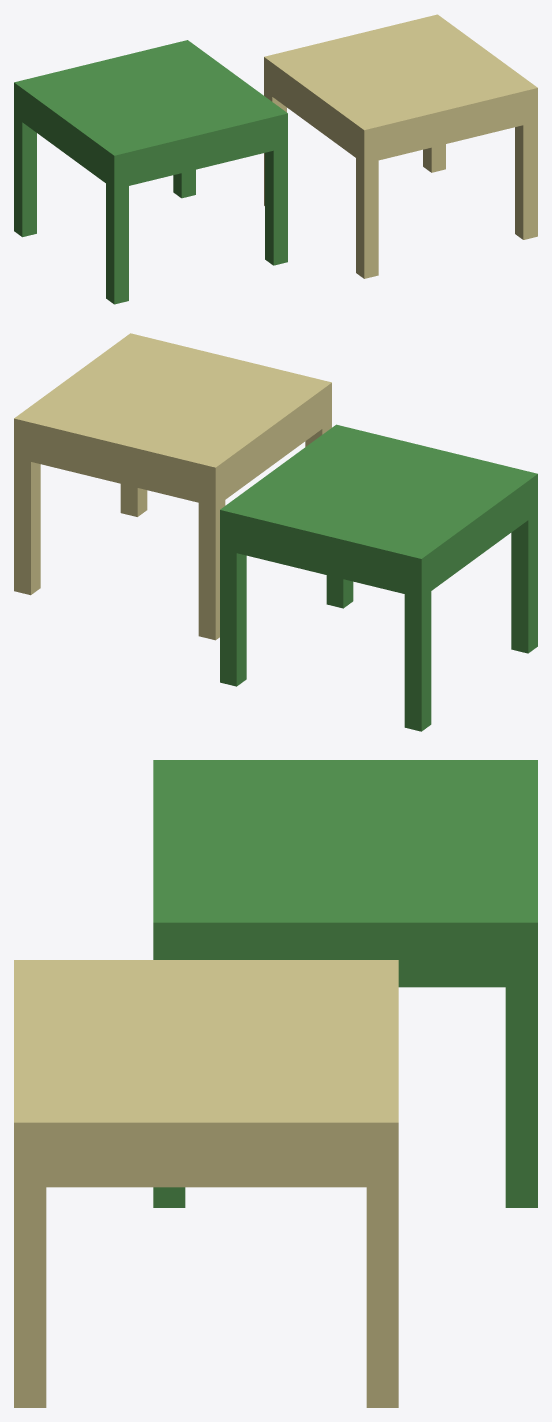
Rendered from IKEA-Lack_Side_Table-3D.obj.
3 renders of one model, top to bottom at view 1: azimuth 30°, elevation 25°; view 2: azimuth 150°, elevation 25°; view 3: azimuth 270°, elevation 25°, orthographic. The views are drawn at different scales.
Visible parts, largest first — view 1: Loft04, Loft03; view 2: Loft04, Loft03; view 3: Loft03, Loft04.
Part boxes in pixels (x1,y1,x2,y2): Loft04: (14,40,287,304); Loft03: (264,14,537,278); Loft04: (220,424,537,731); Loft03: (14,333,331,640); Loft03: (14,960,398,1407); Loft04: (153,760,537,1207).
Size of the model in its own units: 123 by 45 by 74.9.
